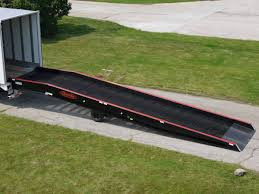Yard Ramp: (12, 66, 256, 152)
